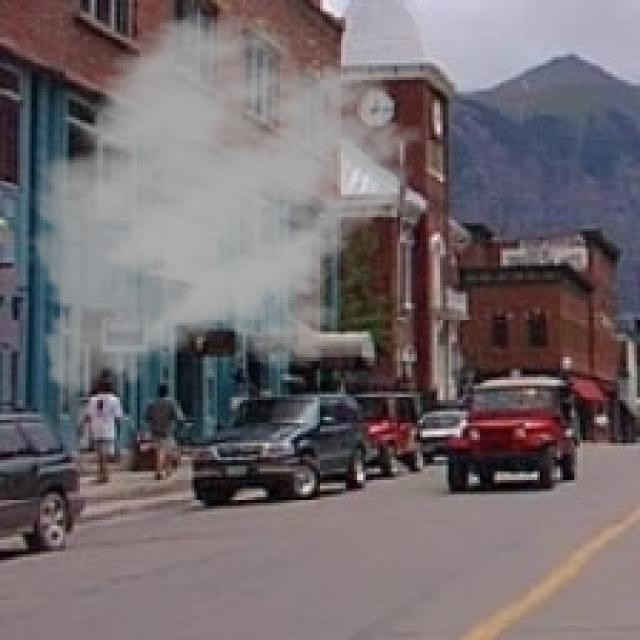Smoke: (20, 11, 426, 412)
